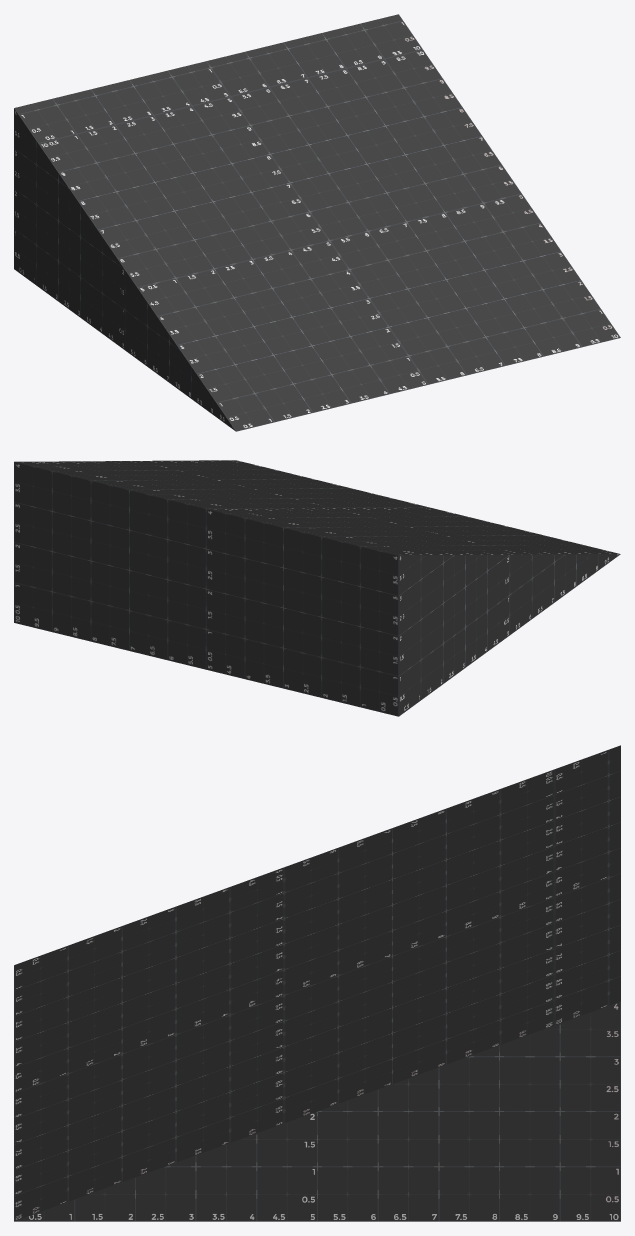
File: WedgeFloor_04.fbx
3 views of the same model, one above another, from view 1: azimuth 30°, elevation 25°; view 2: azimuth 150°, elevation 25°; view 3: azimuth 270°, elevation 25° (orthographic). The views are drawn at different scales.
Visible parts, largest first — view 1: WedgeFloor_04; view 2: WedgeFloor_04; view 3: WedgeFloor_04.
Part boxes in pixels (<box>): WedgeFloor_04: <box>14,14,620,431</box>; WedgeFloor_04: <box>14,460,620,716</box>; WedgeFloor_04: <box>14,745,620,1221</box>.
Size of the model in its own units: 10 by 4 by 10.
